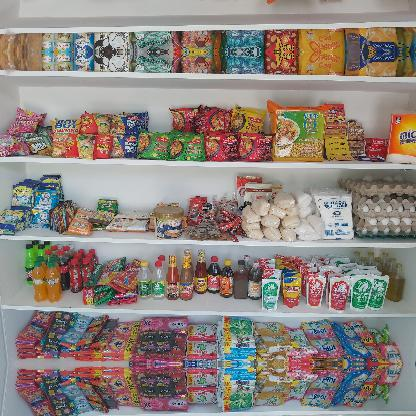Lady-s-Choice: (152, 205, 184, 239)
